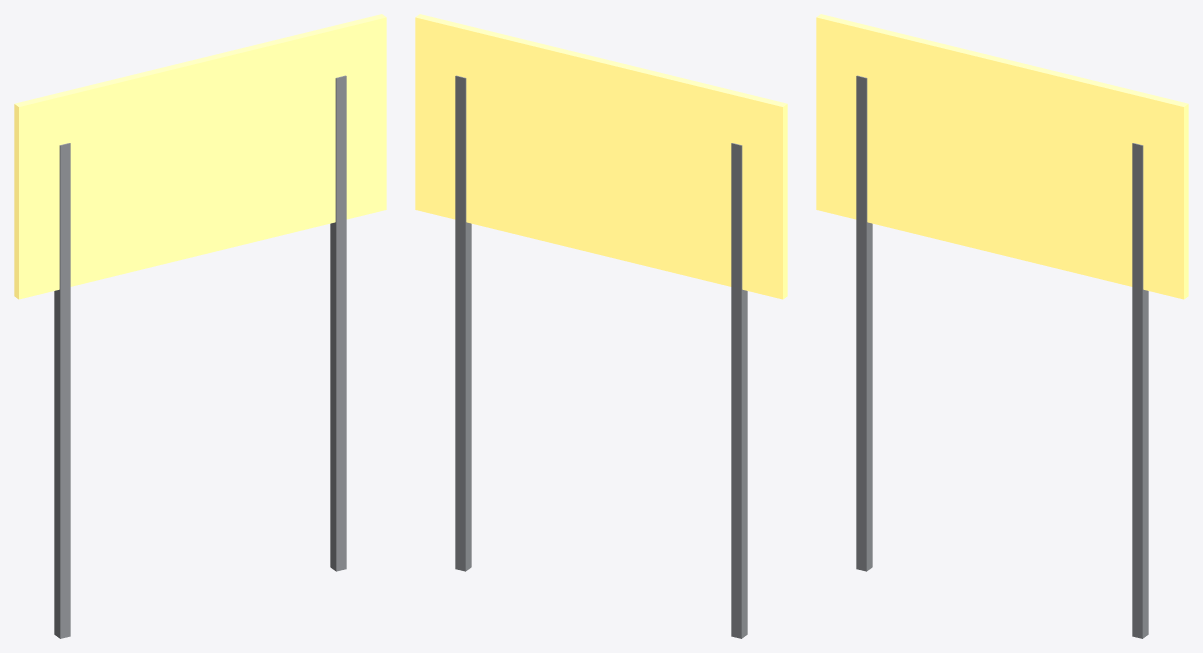
The model's file is billboard_01.glb.
The picture shows the model from 3 angles, left to right: view 1: azimuth 30°, elevation 25°; view 2: azimuth 150°, elevation 25°; view 3: azimuth 330°, elevation 25°; orthographic projection.
Parts seen in each view (by area): view 1: Board, PostR, PostL; view 2: Board, PostR, PostL; view 3: Board, PostL, PostR.
Part boxes in pixels (x1,y1,x2,y2): Board: [14, 14, 386, 299]; PostR: [330, 75, 346, 571]; PostL: [54, 143, 70, 638]; Board: [415, 14, 787, 299]; PostR: [455, 75, 471, 571]; PostL: [731, 143, 747, 638]; Board: [816, 14, 1188, 299]; PostL: [856, 75, 872, 571]; PostR: [1132, 143, 1148, 638].
Bounding box in the file's own units: 6.4 × 9 × 0.18.
